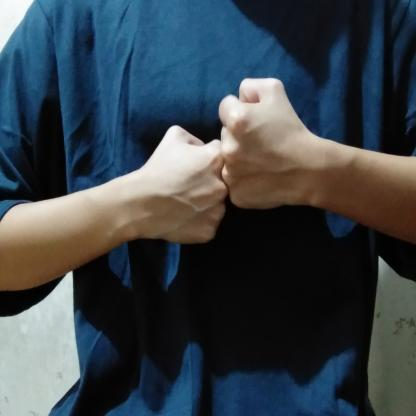brother: (118, 70, 332, 251)
